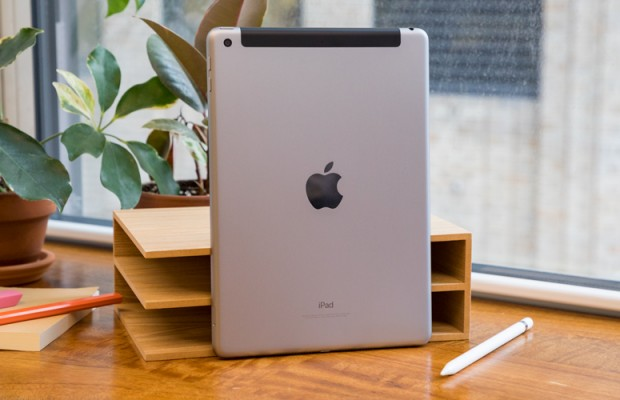apple: (297, 157, 353, 218)
